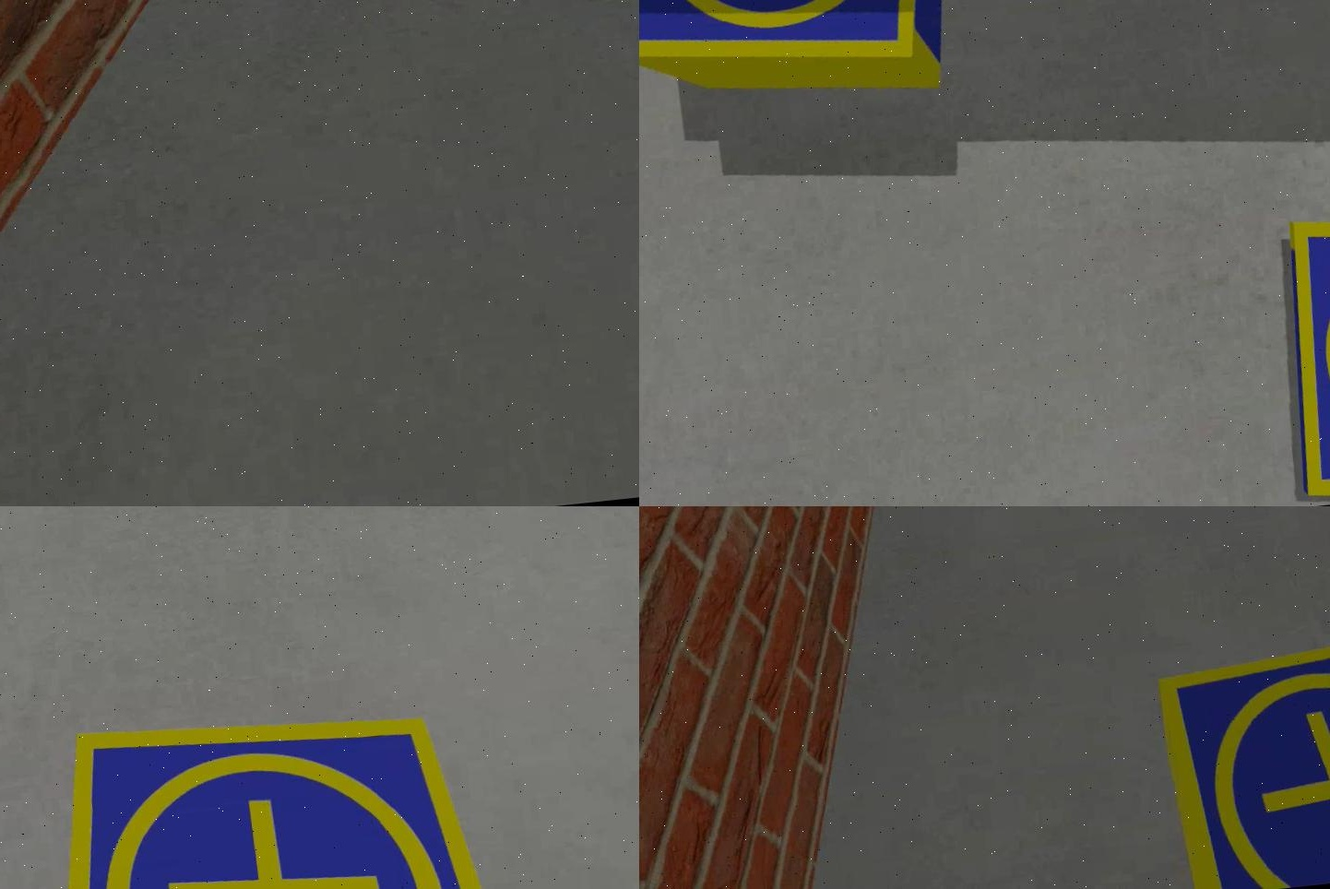small_base: (13, 684, 561, 889), (1149, 621, 1328, 889), (637, 1, 950, 89), (1261, 191, 1328, 506)
